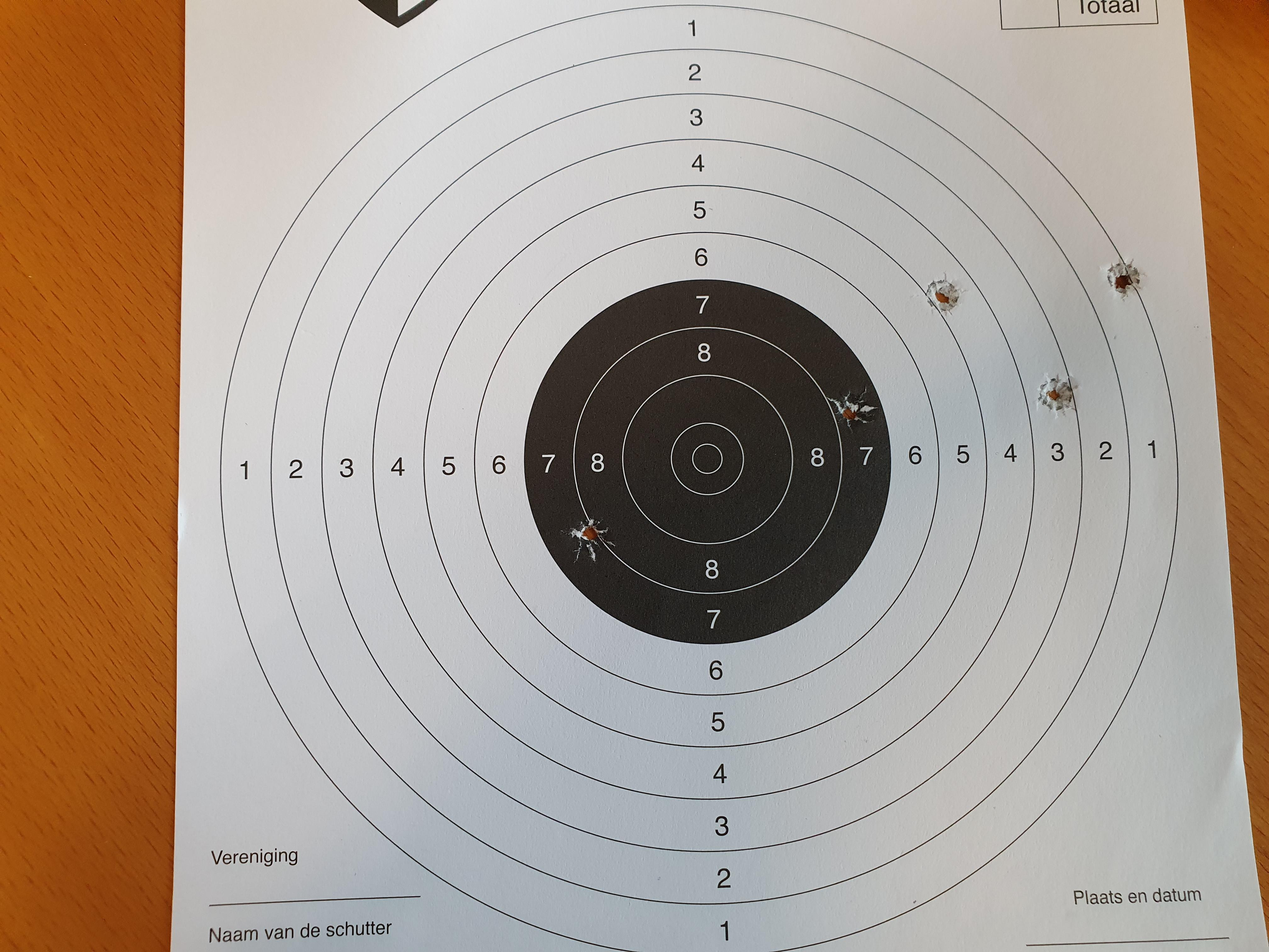hole: (516, 422, 583, 463), (691, 620, 758, 659), (715, 774, 774, 814), (868, 825, 923, 860), (851, 693, 900, 724)
